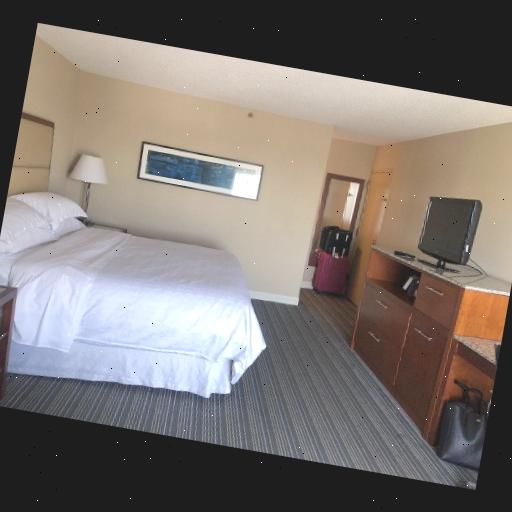clean_bed: (0, 113, 252, 397)
clean_floor: (0, 290, 474, 489)
lamp: (63, 141, 109, 222)
organized table: (353, 244, 509, 441)
